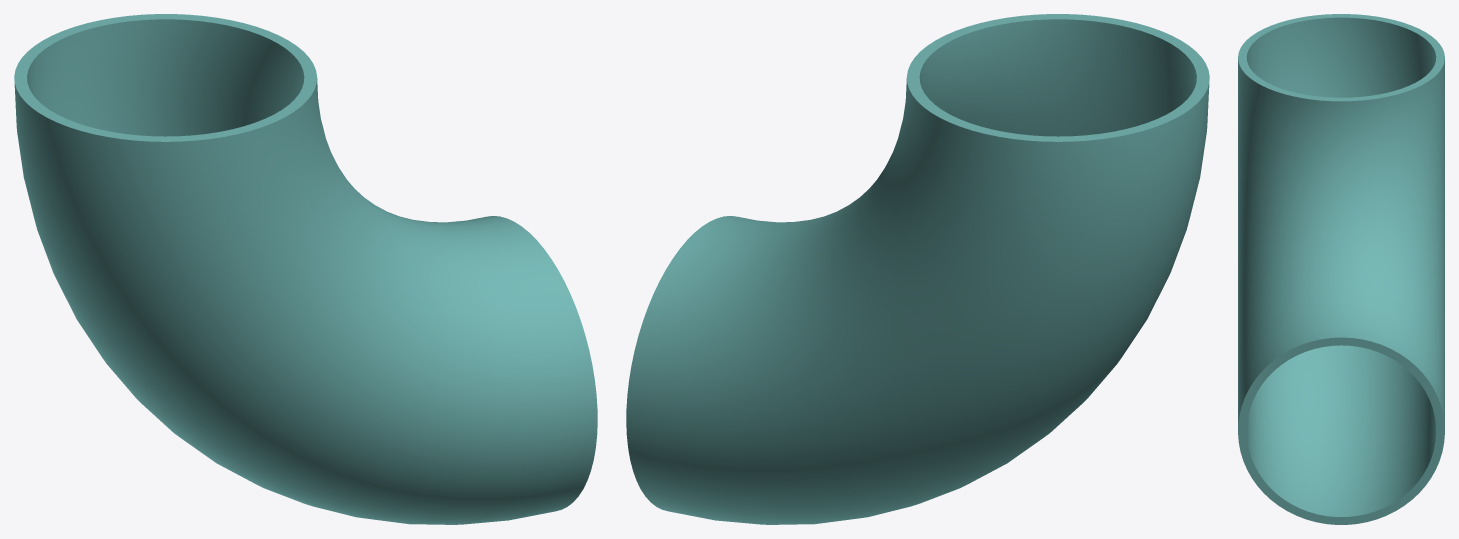
The model's file is step_13.glb.
The picture shows the model from 3 angles, left to right: view 1: azimuth 30°, elevation 25°; view 2: azimuth 150°, elevation 25°; view 3: azimuth 270°, elevation 25°; orthographic projection. The views are drawn at different scales.
Visible parts, largest first — view 1: part__6" elbow bottom left; view 2: part__6" elbow bottom left; view 3: part__6" elbow bottom left.
Part boxes in pixels (box(x1,y1,x2,y2)): part__6" elbow bottom left: box(14, 14, 597, 524); part__6" elbow bottom left: box(626, 14, 1209, 524); part__6" elbow bottom left: box(1238, 14, 1444, 524).
Size of the model in its own units: 313 by 313 by 168.
